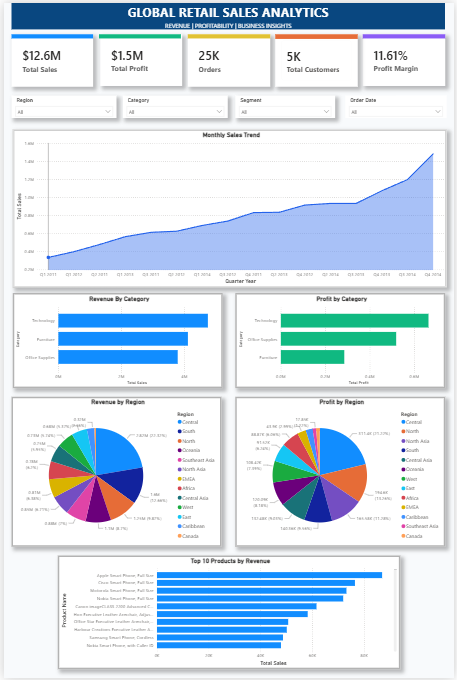

The page's visual inventory and layout, read from the dashboard file:
{"tool":"powerbi","page":{"name":"Page 1","canvas":[1200,1800],"ordinal":0},"visuals":[{"type":"cardVisual","fields":{"Data":["superstore.Total Sales"]},"box":[20.5,82.9,217.9,140],"z":1000},{"type":"cardVisual","fields":{"Data":["superstore.Total Profit"]},"box":[255.7,84.8,218.6,137.7],"z":2000},{"type":"cardVisual","fields":{"Data":["superstore.Total Orders"]},"box":[488.8,82.9,219.9,140],"z":3000},{"type":"cardVisual","fields":{"Data":["superstore.Profit Margin"]},"box":[957.5,82.9,220,137.5],"z":4000},{"type":"shape","box":[20,82.5,217.9,11.4],"z":5000},{"type":"shape","box":[488.8,82.5,219.9,11.4],"z":6000},{"type":"lineChart","title":"Monthly Sales Trend","fields":{"Y":["superstore.Total Sales"],"Category":["superstore.Quarter Year"]},"box":[22.5,337.5,1157.5,422.5],"z":7000},{"type":"shape","box":[254.4,82.5,218.6,11.2],"z":8000},{"type":"shape","box":[957.8,82.5,220,11.2],"z":9000},{"type":"clusteredBarChart","title":"Revenue By Category","fields":{"Category":["superstore.Category"],"Y":["superstore.Total Sales"]},"box":[23.3,773.3,560,253.3],"z":10000},{"type":"clusteredBarChart","title":"Profit by Category","fields":{"Y":["superstore.Total Profit"],"Category":["superstore.Category"]},"box":[616.7,773.3,560,253.3],"z":11000},{"type":"pieChart","title":"Revenue by Region","fields":{"Category":["superstore.Region"],"Y":["superstore.Total Sales"]},"box":[20,1050,560,400],"z":12000},{"type":"pieChart","title":"Profit by Region","fields":{"Category":["superstore.Region"],"Y":["superstore.Total Profit"]},"box":[616.7,1050,560,400],"z":13000},{"type":"cardVisual","fields":{"Data":["superstore.Total Customers"]},"box":[723.1,82.5,220,140],"z":14000},{"type":"shape","box":[723.1,82.5,220,12.5],"z":15000},{"type":"slicer","fields":{"Values":["superstore.Region"]},"box":[20,245,280,60],"z":16000},{"type":"slicer","fields":{"Values":["superstore.Category"]},"box":[318,246,280,60],"z":17000},{"type":"slicer","fields":{"Values":["superstore.Segment"]},"box":[616,246,266,60],"z":18000},{"type":"clusteredBarChart","title":"Top 10 Products by Revenue","fields":{"Category":["superstore.Product Name"],"Y":["Sum(superstore.Sales)"]},"box":[143.3,1473.3,913.3,303.3],"z":19000},{"type":"slicer","fields":{"Values":["superstore.Order Date"]},"box":[910,246,270,60],"z":20000},{"type":"textbox","title":"GLOBAL RETAIL SALES ANALYTICS","box":[20,0,1156,70],"z":20001}]}

Visuals, with their boxes in screenshot pixels (x1, y1, x2, y2), scaled from the page's 1200x1800 canvas onto the 457x680 screenshot:
cardVisual - superstore.Total Sales: box(8, 31, 91, 84)
cardVisual - superstore.Total Profit: box(97, 32, 181, 84)
cardVisual - superstore.Total Orders: box(186, 31, 270, 84)
cardVisual - superstore.Profit Margin: box(365, 31, 448, 83)
shape: box(8, 31, 91, 35)
shape: box(186, 31, 270, 35)
"Monthly Sales Trend" lineChart: box(9, 128, 449, 287)
shape: box(97, 31, 180, 35)
shape: box(365, 31, 449, 35)
"Revenue By Category" clusteredBarChart: box(9, 292, 222, 388)
"Profit by Category" clusteredBarChart: box(235, 292, 448, 388)
"Revenue by Region" pieChart: box(8, 397, 221, 548)
"Profit by Region" pieChart: box(235, 397, 448, 548)
cardVisual - superstore.Total Customers: box(275, 31, 359, 84)
shape: box(275, 31, 359, 36)
slicer - superstore.Region: box(8, 93, 114, 115)
slicer - superstore.Category: box(121, 93, 228, 116)
slicer - superstore.Segment: box(235, 93, 336, 116)
"Top 10 Products by Revenue" clusteredBarChart: box(55, 557, 402, 671)
slicer - superstore.Order Date: box(347, 93, 449, 116)
"GLOBAL RETAIL SALES ANALYTICS" textbox: box(8, 0, 448, 26)
